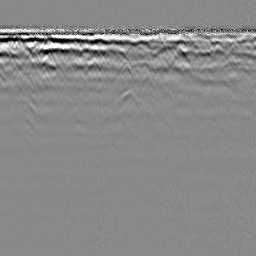cavity: (112, 88, 144, 118)
